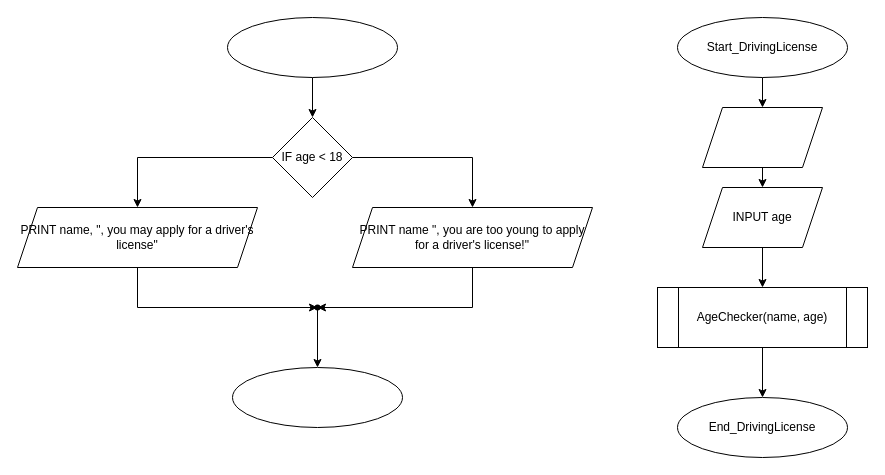
Some shapes in this 885 by 475 pixel diagram are drawn without their labels. The shapes that lost their labels are listed below. From the top down, each one's centre as x and y in pixels, then its label:
At [312,47]: "Start_AgeChecker(name, age)".
At [762,137]: "INPUT name".
At [317,397]: "Return".
